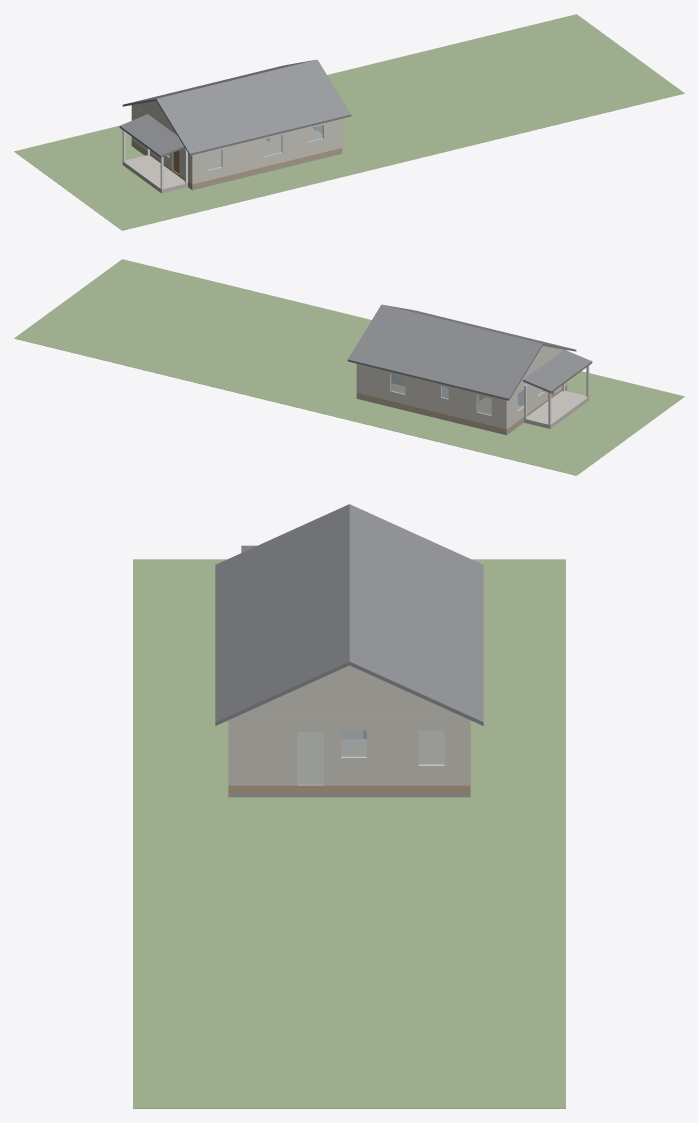
Rendered from house.glb.
3 renders of one model, top to bottom at view 1: azimuth 30°, elevation 25°; view 2: azimuth 150°, elevation 25°; view 3: azimuth 270°, elevation 25°, orthographic. The views are drawn at different scales.
Visible parts, largest first — view 1: lot, roof.main, main.walls.kept, main.floor, roof.front-porch, porch.front-porch.floor, roof.main.gable, foundation, porch.front-porch.posts; view 2: lot, roof.main, main.walls.kept, roof.front-porch, porch.front-porch.floor, main.floor, roof.main.gable, foundation, porch.front-porch.posts; view 3: lot, roof.main, main.walls.kept, roof.main.gable, main.floor, main.door.back.glass, foundation, main.window.w-kitchen-rear.wall, main.window.w-bed2-rear.wall, main.window.w-bed2-rear.glass.
Boxes of the visible parts, left/top/right/bottom form: lot: left=14, top=14, right=684, bottom=230; roof.main: left=122, top=59, right=351, bottom=155; main.walls.kept: left=131, top=105, right=342, bottom=184; main.floor: left=131, top=128, right=342, bottom=188; roof.front-porch: left=119, top=114, right=184, bottom=157; porch.front-porch.floor: left=122, top=155, right=187, bottom=193; roof.main.gable: left=132, top=101, right=176, bottom=134; foundation: left=131, top=144, right=342, bottom=190; porch.front-porch.posts: left=122, top=130, right=187, bottom=189; lot: left=14, top=259, right=684, bottom=475; roof.main: left=347, top=304, right=576, bottom=400; main.walls.kept: left=356, top=350, right=567, bottom=429; roof.front-porch: left=523, top=349, right=592, bottom=392; porch.front-porch.floor: left=524, top=390, right=589, bottom=428; main.floor: left=356, top=383, right=567, bottom=433; roof.main.gable: left=519, top=346, right=566, bottom=384; foundation: left=356, top=389, right=567, bottom=435; porch.front-porch.posts: left=524, top=366, right=589, bottom=424; lot: left=133, top=559, right=565, bottom=1108; roof.main: left=215, top=504, right=483, bottom=725; main.walls.kept: left=228, top=715, right=470, bottom=785; roof.main.gable: left=241, top=665, right=457, bottom=714; main.floor: left=228, top=731, right=470, bottom=793; main.door.back.glass: left=297, top=732, right=323, bottom=784; foundation: left=228, top=793, right=470, bottom=797; main.window.w-kitchen-rear.wall: left=341, top=715, right=366, bottom=785; main.window.w-bed2-rear.wall: left=418, top=715, right=444, bottom=785; main.window.w-bed2-rear.glass: left=418, top=730, right=444, bottom=765.
Size of what is drawn, in the model's own units: 45.72 by 5.5 by 15.24.
